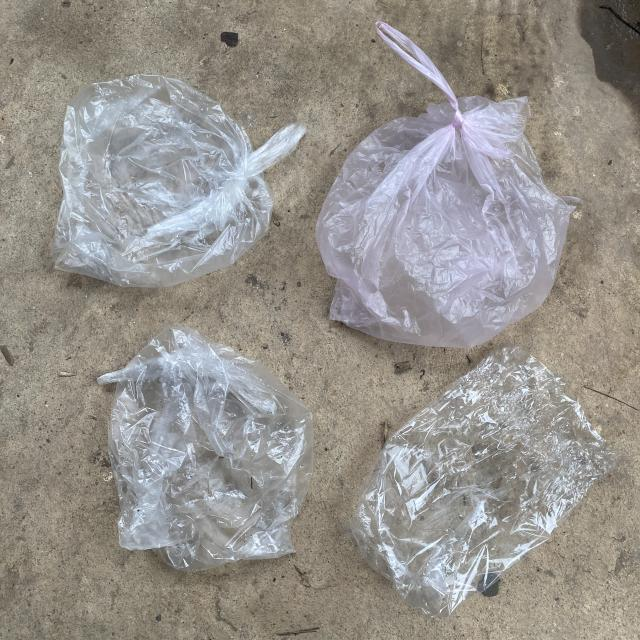Single-layer Plastic: (316, 21, 576, 348), (350, 345, 619, 618), (51, 75, 305, 288), (98, 328, 314, 571)
